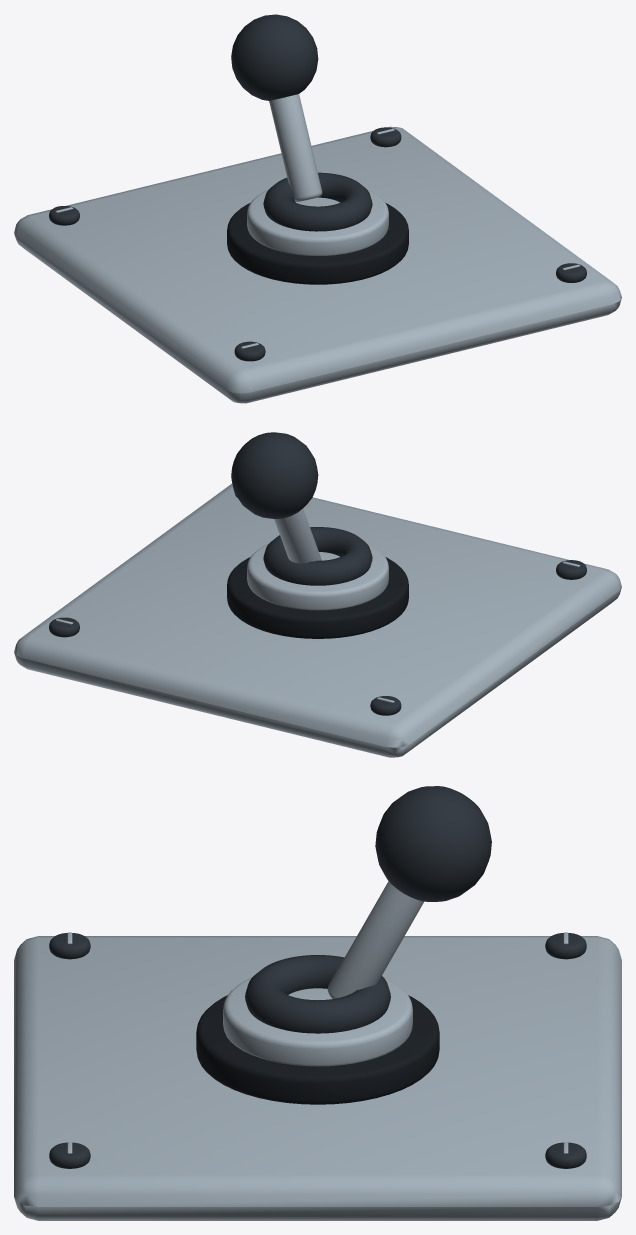
Rendered from lever.glb.
The picture shows the model from 3 angles, top to bottom: view 1: azimuth 30°, elevation 25°; view 2: azimuth 150°, elevation 25°; view 3: azimuth 270°, elevation 25°; orthographic projection. The views are drawn at different scales.
Visible parts, largest first — view 1: lever_mount, switch gasket, lever grip, retaining nut, pivot socket, lever stem; view 2: lever_mount, switch gasket, lever grip, retaining nut, pivot socket, lever stem, mount screw.007, mount screw.005, mount screw.004; view 3: lever_mount, switch gasket, lever grip, retaining nut, pivot socket, lever stem, mount screw.006, mount screw.007, mount screw.004, mount screw.005.
Part boxes in pixels (x1=…): lever_mount: x1=14, y1=126, x2=621, y2=403; switch gasket: x1=227, y1=203, x2=408, y2=284; lever grip: x1=231, y1=14, x2=318, y2=100; retaining nut: x1=247, y1=189, x2=388, y2=255; pivot socket: x1=263, y1=172, x2=372, y2=231; lever stem: x1=269, y1=94, x2=322, y2=202; lever_mount: x1=14, y1=483, x2=621, y2=757; switch gasket: x1=227, y1=557, x2=408, y2=638; lever grip: x1=231, y1=432, x2=318, y2=518; retaining nut: x1=247, y1=543, x2=388, y2=610; pivot socket: x1=263, y1=527, x2=372, y2=585; lever stem: x1=274, y1=509, x2=321, y2=563; mount screw.007: x1=49, y1=617, x2=79, y2=637; mount screw.005: x1=370, y1=696, x2=401, y2=715; mount screw.004: x1=556, y1=560, x2=586, y2=579; lever_mount: x1=14, y1=936, x2=621, y2=1220; switch gasket: x1=196, y1=995, x2=439, y2=1104; lever grip: x1=375, y1=786, x2=491, y2=901; retaining nut: x1=223, y1=977, x2=412, y2=1066; pivot socket: x1=245, y1=955, x2=390, y2=1033; lever stem: x1=327, y1=881, x2=423, y2=998; mount screw.006: x1=49, y1=1142, x2=90, y2=1168; mount screw.007: x1=545, y1=1142, x2=586, y2=1168; mount screw.004: x1=49, y1=933, x2=90, y2=959; mount screw.005: x1=545, y1=933, x2=586, y2=959.
Bounding box in the file's own units: 2.5 × 1.4 × 2.5.
